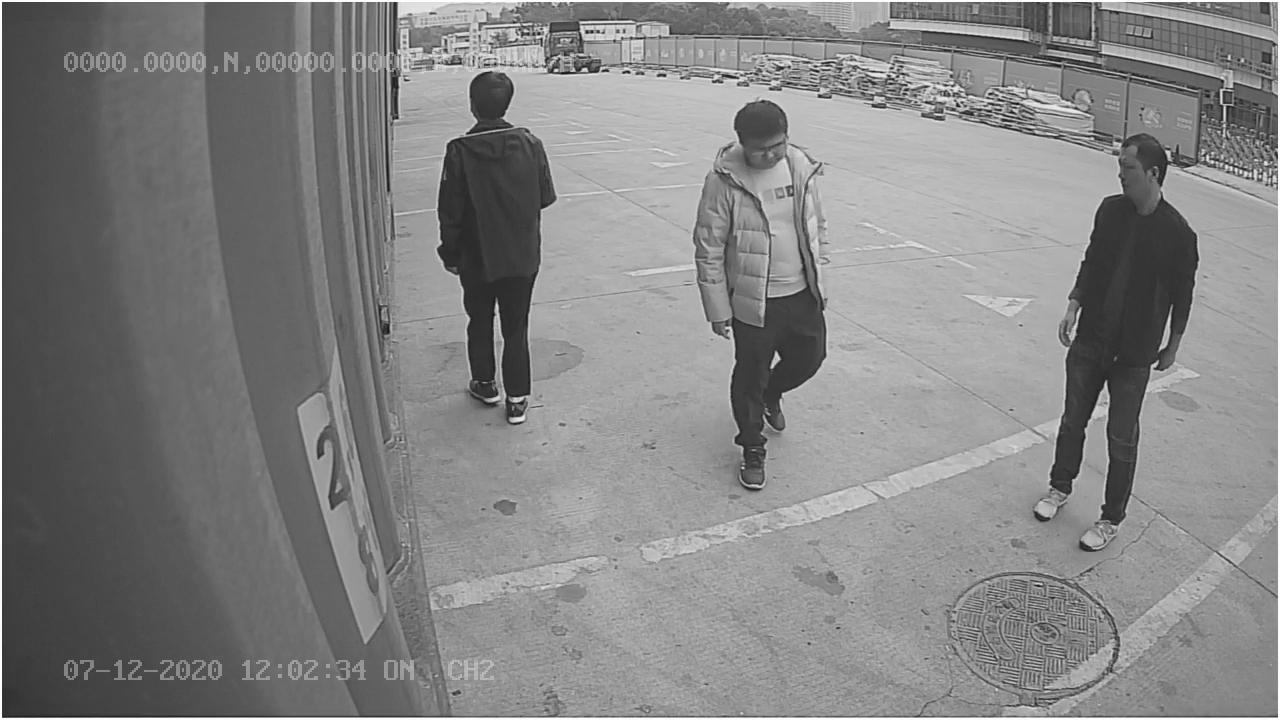person: (1026, 133, 1199, 554), (694, 97, 835, 495), (429, 67, 557, 423)
